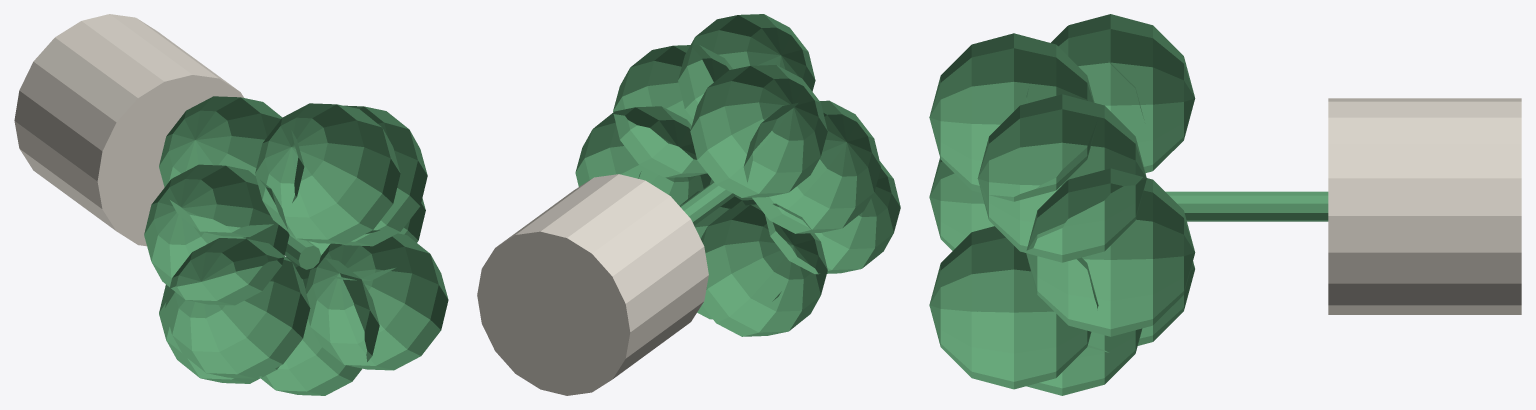
Rendered from decorative_plant.glb.
3 views of the same model, side by side, from view 1: azimuth 30°, elevation 25°; view 2: azimuth 150°, elevation 25°; view 3: azimuth 270°, elevation 25° (orthographic). The views are drawn at different scales.
Parts seen in each view (by area): view 1: leaf (×9), pot, stem; view 2: leaf (×8), pot, stem; view 3: leaf (×8), pot, stem.
Part boxes in pixels (x1=…): leaf (×9): x1=144, y1=96, x2=448, y2=395; pot: x1=14, y1=14, x2=243, y2=246; stem: x1=285, y1=233, x2=320, y2=269; leaf (×8): x1=575, y1=14, x2=900, y2=336; pot: x1=477, y1=174, x2=708, y2=395; stem: x1=680, y1=182, x2=735, y2=225; leaf (×8): x1=929, y1=14, x2=1195, y2=395; pot: x1=1328, y1=98, x2=1521, y2=314; stem: x1=1165, y1=191, x2=1328, y2=221.
Bounding box in the file's own units: 0.6291 × 0.6345 × 0.98.
